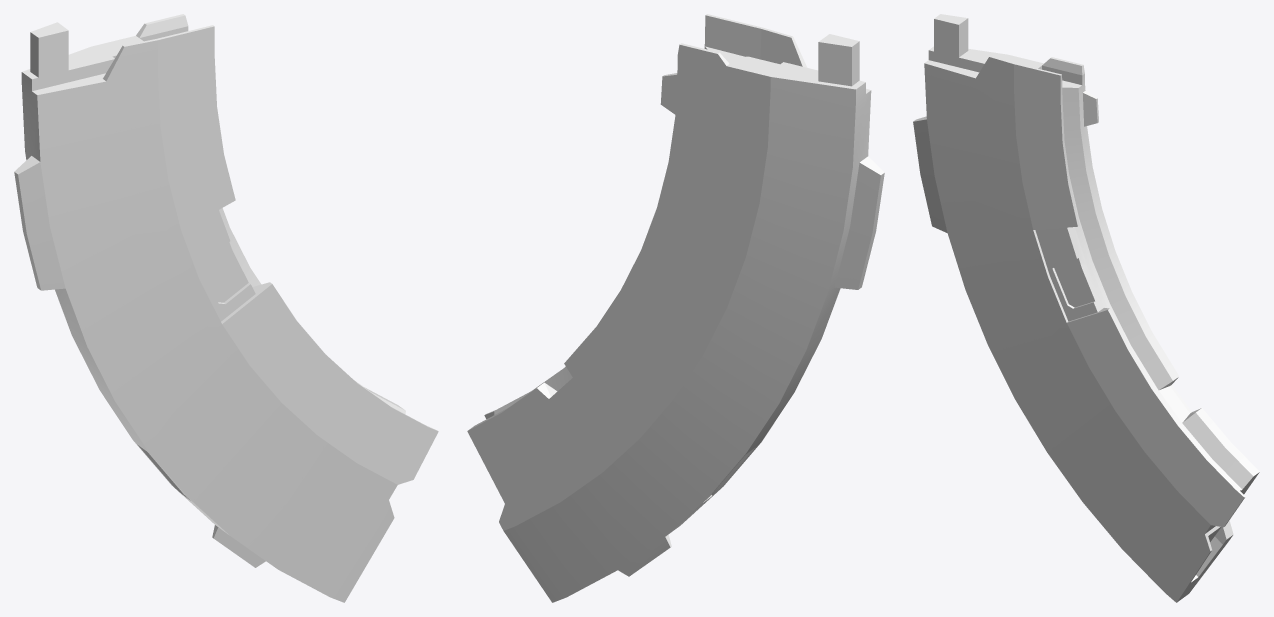
File: kpr_ring_base_part_02.glb
3 renders of one model, left to right at view 1: azimuth 30°, elevation 25°; view 2: azimuth 150°, elevation 25°; view 3: azimuth 330°, elevation 25°, orthographic. The views are drawn at different scales.
Visible parts, largest first — view 1: kpr_ring_base_part_02; view 2: kpr_ring_base_part_02; view 3: kpr_ring_base_part_02.
Part boxes in pixels (x1,y1,x2,y2): kpr_ring_base_part_02: [14, 14, 438, 602]; kpr_ring_base_part_02: [467, 14, 884, 602]; kpr_ring_base_part_02: [913, 14, 1259, 602].
Size of the model in its own units: 161 by 238 by 20.13.
Materials: 2 (2 with a texture image).
